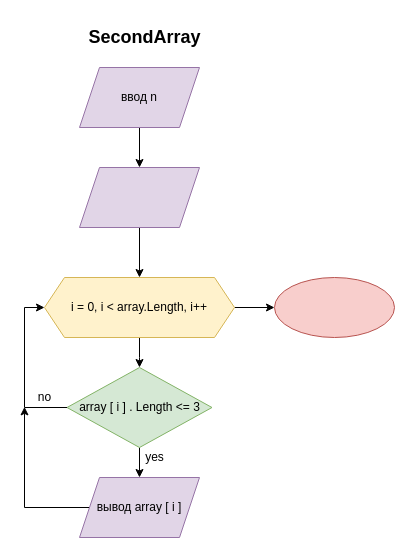
Image size: 412x555. Some labels were removed from this diagram. The centre of each missing label's shape, as x and y in pixels:
"array [ n ]" belongs at pixel 139 197.
"Завершение" belongs at pixel 334 307.
